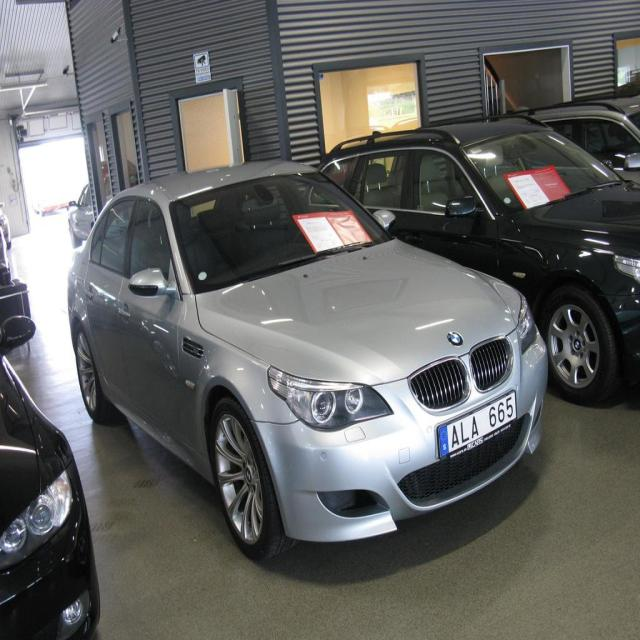car: (54, 164, 564, 564), (33, 195, 54, 216), (56, 189, 66, 207)
